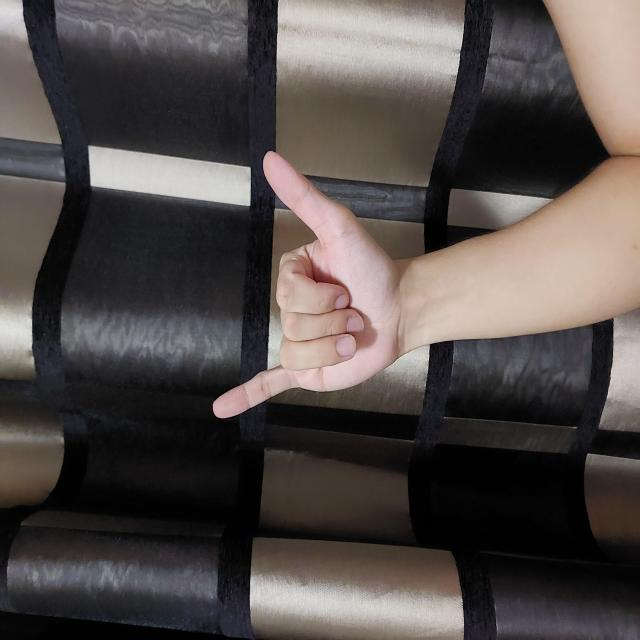Y: (220, 211, 490, 403)
